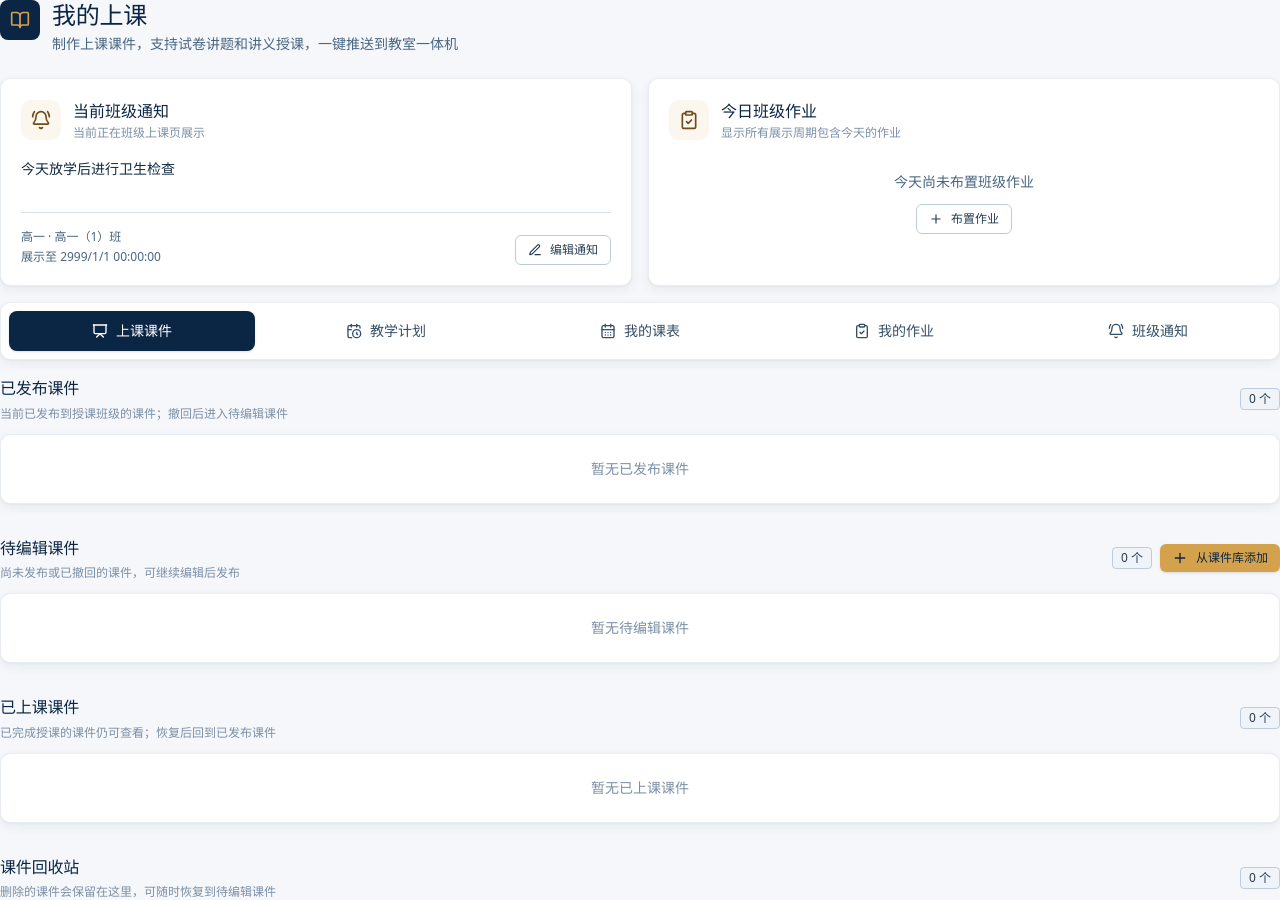
Test: MyLessonsPage classroom publishing › shows expired notices in history without mixing them into the current class display
The image size is (1280, 900).
Click the tab "班级通知".
click(1148, 331)  # box [1025,311,1271,351]
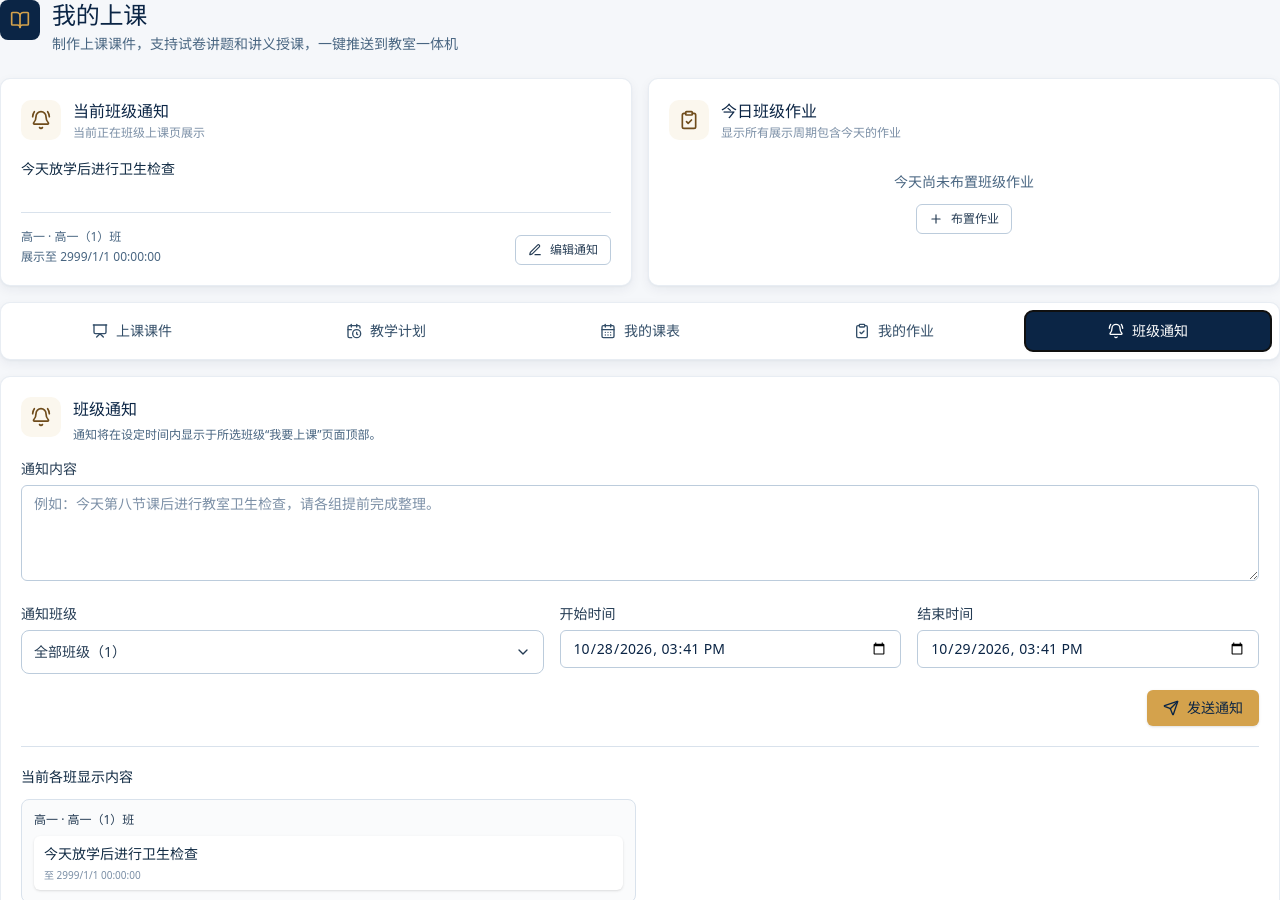
Expected: the text "今天放学后进行卫生检查" below "当前各班显示内容" is shown, [44,844,198,863]
